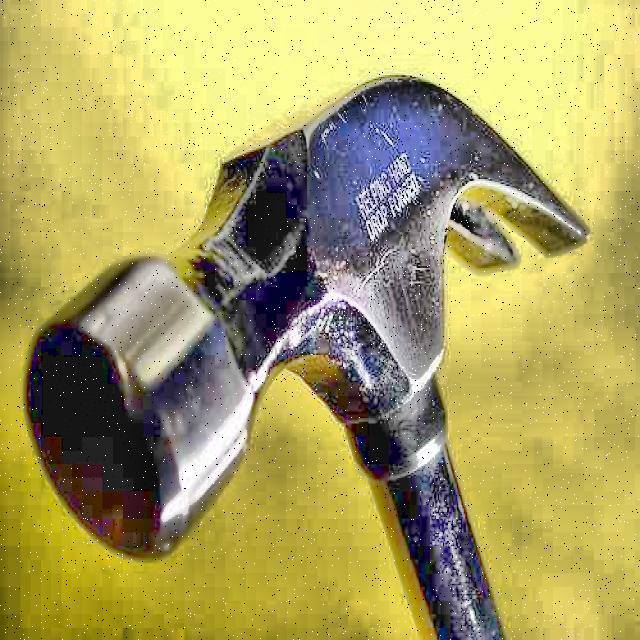hammer: (20, 77, 588, 639)
